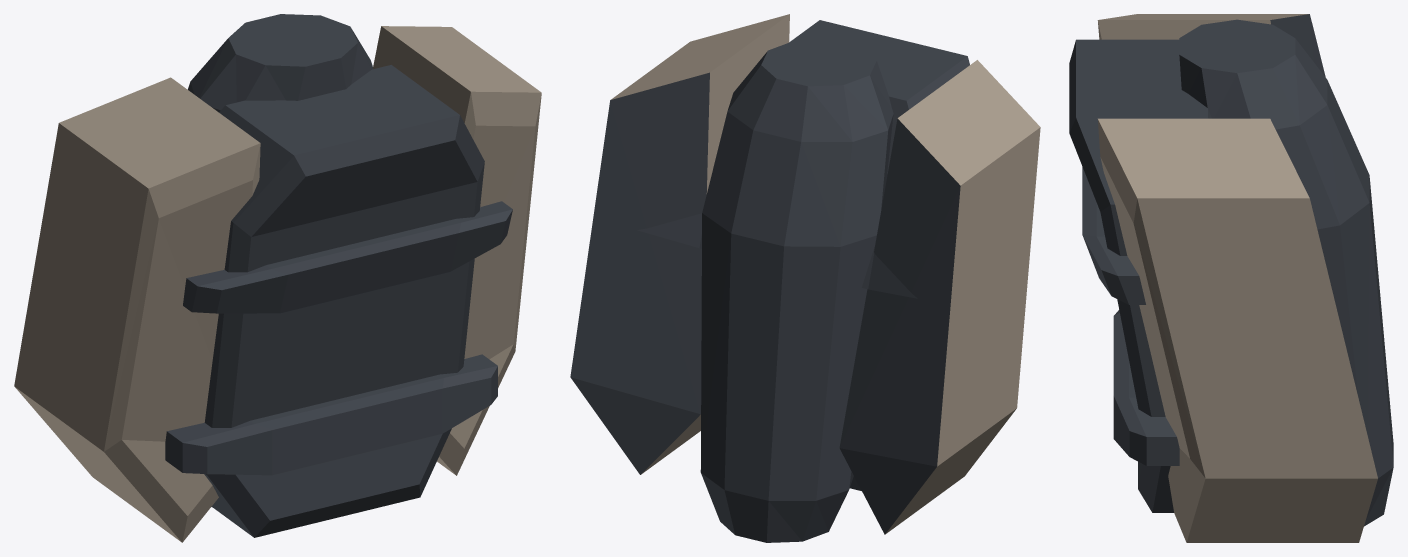
The model's file is thigh_heavy.glb.
3 views of the same model, side by side, from view 1: azimuth 30°, elevation 25°; view 2: azimuth 150°, elevation 25°; view 3: azimuth 270°, elevation 25° (orthographic). The views are drawn at different scales.
Visible parts, largest first — view 1: thigh_heavy; view 2: thigh_heavy; view 3: thigh_heavy.
Boxes of the visible parts, x1,y1,x2,y2 form: thigh_heavy: (14,14,541,542); thigh_heavy: (570,14,1040,542); thigh_heavy: (1069,14,1393,542).
Size of the model in its own units: 0.9 by 1 by 0.6392.
